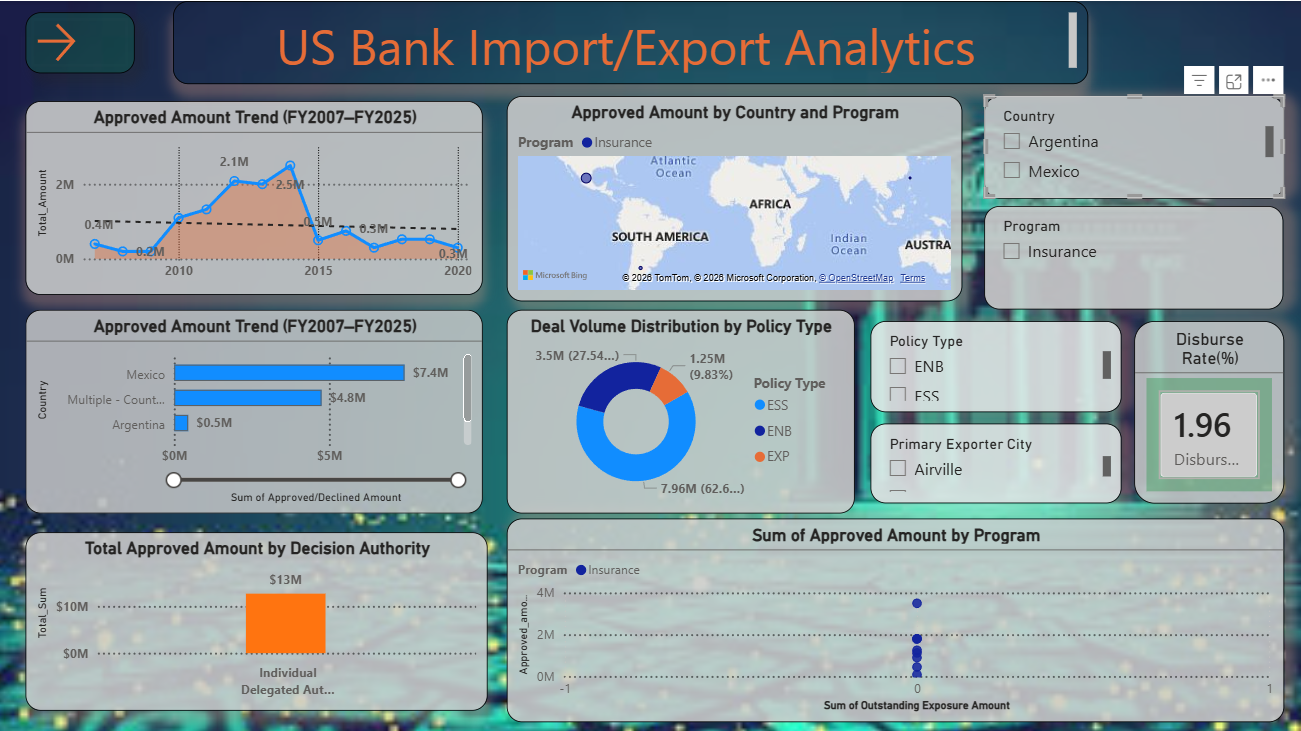

The page's visual inventory and layout, read from the dashboard file:
{"tool":"powerbi","page":{"name":"Page 1","canvas":[1280,720],"ordinal":0},"visuals":[{"type":"areaChart","title":"Approved Amount Trend (FY2007–FY2025)","fields":{"Y":["Sum(Data Gov+-+FY25+Q4.Approved/Declined Amount)"],"Category":["Data Gov+-+FY25+Q4.Decision Date.Variation.Date Hierarchy.Year"]},"box":[27,98.2,449.1,190.2],"z":0},{"type":"textbox","box":[171.4,0,898.6,81.4],"z":1000},{"type":"map","title":"Approved Amount by Country and Program","fields":{"Category":["Data Gov+-+FY25+Q4.Country"],"Size":["Data Gov+-+FY25+Q4.Approved_amount"],"Series":["Data Gov+-+FY25+Q4.Program"]},"box":[500,92.9,447.1,201.4],"z":2000},{"type":"clusteredBarChart","title":"Approved Amount Trend (FY2007–FY2025)","fields":{"Category":["Data Gov+-+FY25+Q4.Country"],"Y":["Sum(Data Gov+-+FY25+Q4.Approved/Declined Amount)"]},"box":[27,303.1,449.1,200],"z":3000},{"type":"scatterChart","title":"Sum of Approved Amount by Program","fields":{"Category":["Data Gov+-+FY25+Q4.Deal Number"],"Series":["Data Gov+-+FY25+Q4.Program"],"Y":["Data Gov+-+FY25+Q4.Approved_amount"],"X":["Sum(Data Gov+-+FY25+Q4.Outstanding Exposure Amount)"]},"box":[499.4,508,763.2,200],"z":4000},{"type":"donutChart","title":"Deal Volume Distribution by Policy Type","fields":{"Category":["Data Gov+-+FY25+Q4.Policy Type"],"Y":["Data Gov+-+FY25+Q4.Approved_amount"]},"box":[500,302.9,341.4,200],"z":5000},{"type":"columnChart","title":"Total Approved Amount by Decision Authority","fields":{"Y":["Sum(Data Gov+-+FY25+Q4.Approved/Declined Amount)"],"Category":["Data Gov+-+FY25+Q4.Decision Authority"]},"box":[27,521.5,454,175.5],"z":6000},{"type":"slicer","title":"Deal Volume by Program","fields":{"Values":["Data Gov+-+FY25+Q4.Country"]},"box":[968.1,93.3,294.5,100.6],"z":7000},{"type":"slicer","title":"Deal Volume by Program","fields":{"Values":["Data Gov+-+FY25+Q4.Program"]},"box":[968.1,201.2,293.3,101.8],"z":8000},{"type":"slicer","title":"Deal Volume by Program","fields":{"Values":["Data Gov+-+FY25+Q4.Policy Type"]},"box":[856.4,314.1,246.6,89.6],"z":9000},{"type":"slicer","title":"Deal Volume by Program","fields":{"Values":["Data Gov+-+FY25+Q4.Primary Exporter City"]},"box":[856.4,414.7,246.6,78.5],"z":10000},{"type":"cardVisual","title":"Disburse Rate(%)","fields":{"Data":["Data Gov+-+FY25+Q4.Disbursement %"]},"box":[1115.3,314.1,147.2,179.1],"z":11000},{"type":"actionButton","box":[27.1,11.4,107.1,60],"z":12000}]}

Visuals, with their boxes in screenshot pixels (x1, y1, x2, y2), scaled from the page's 1280x720 canvas onto the 1301x731 screenshot:
"Approved Amount Trend (FY2007–FY2025)" areaChart: BBox(27, 100, 484, 293)
textbox: BBox(174, 0, 1088, 83)
"Approved Amount by Country and Program" map: BBox(508, 94, 963, 299)
"Approved Amount Trend (FY2007–FY2025)" clusteredBarChart: BBox(27, 308, 484, 511)
"Sum of Approved Amount by Program" scatterChart: BBox(508, 516, 1283, 719)
"Deal Volume Distribution by Policy Type" donutChart: BBox(508, 308, 855, 511)
"Total Approved Amount by Decision Authority" columnChart: BBox(27, 529, 489, 708)
"Deal Volume by Program" slicer: BBox(984, 95, 1283, 197)
"Deal Volume by Program" slicer: BBox(984, 204, 1282, 308)
"Deal Volume by Program" slicer: BBox(870, 319, 1121, 410)
"Deal Volume by Program" slicer: BBox(870, 421, 1121, 501)
"Disburse Rate(%)" cardVisual: BBox(1134, 319, 1283, 501)
actionButton: BBox(28, 12, 136, 72)
